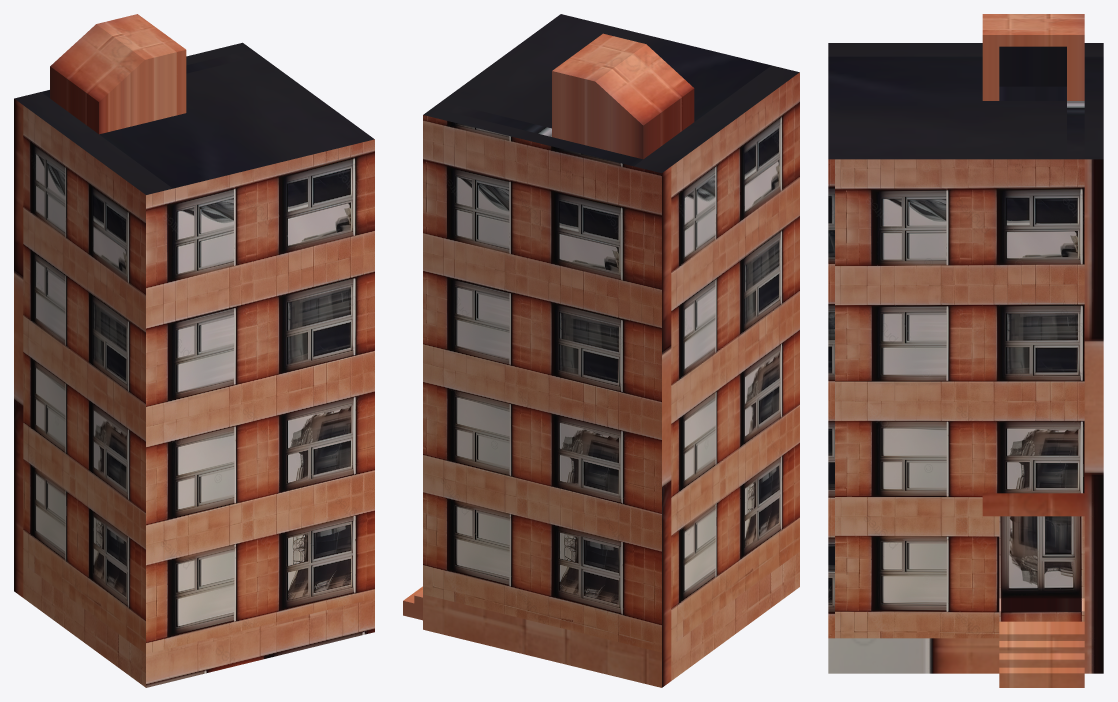
Rendered from city5.fbx.
The picture shows the model from 3 angles, left to right: view 1: azimuth 30°, elevation 25°; view 2: azimuth 150°, elevation 25°; view 3: azimuth 270°, elevation 25°; orthographic projection. The views are drawn at different scales.
Parts seen in each view (by area): view 1: Cubo.002; view 2: Cubo.002; view 3: Cubo.002.
Part boxes in pixels (left/top/right/bottom): Cubo.002: left=14, top=14, right=374, bottom=687; Cubo.002: left=403, top=14, right=799, bottom=687; Cubo.002: left=828, top=14, right=1103, bottom=687.
Bounding box in the file's own units: 3819 × 7899 × 3400.
1 material, 1 textured.
